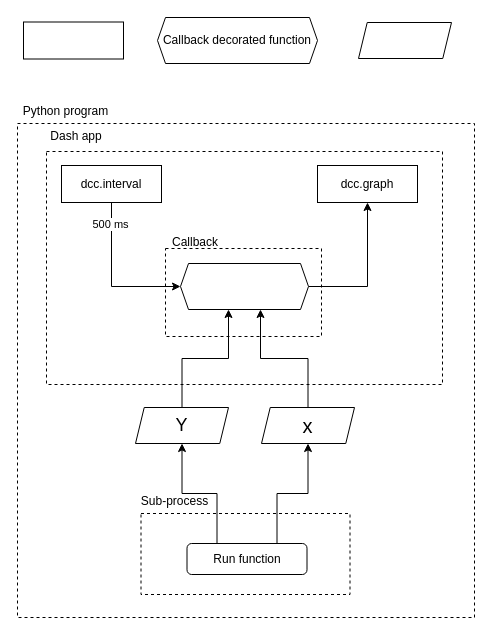
The diagram is 492 pixels wide and 635 high, and some of its shapes have lost their labels. The centre of each missing label's shape, as x and y in pixels:
Dash.component: the point at 73,40
Shared Array: the point at 405,40
update_graph_scatter: the point at 244,286
